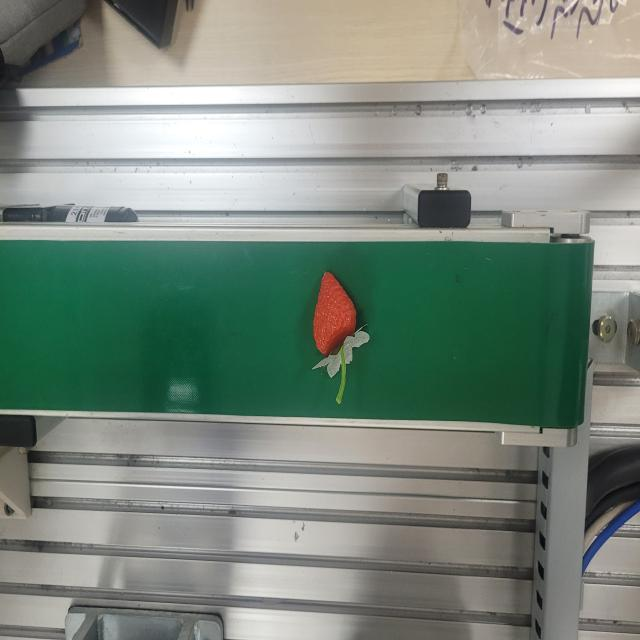Small Ripe Strawberry: (312, 268, 367, 380)
